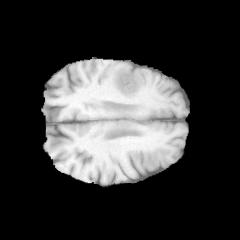glioma: (113, 68, 143, 99)
